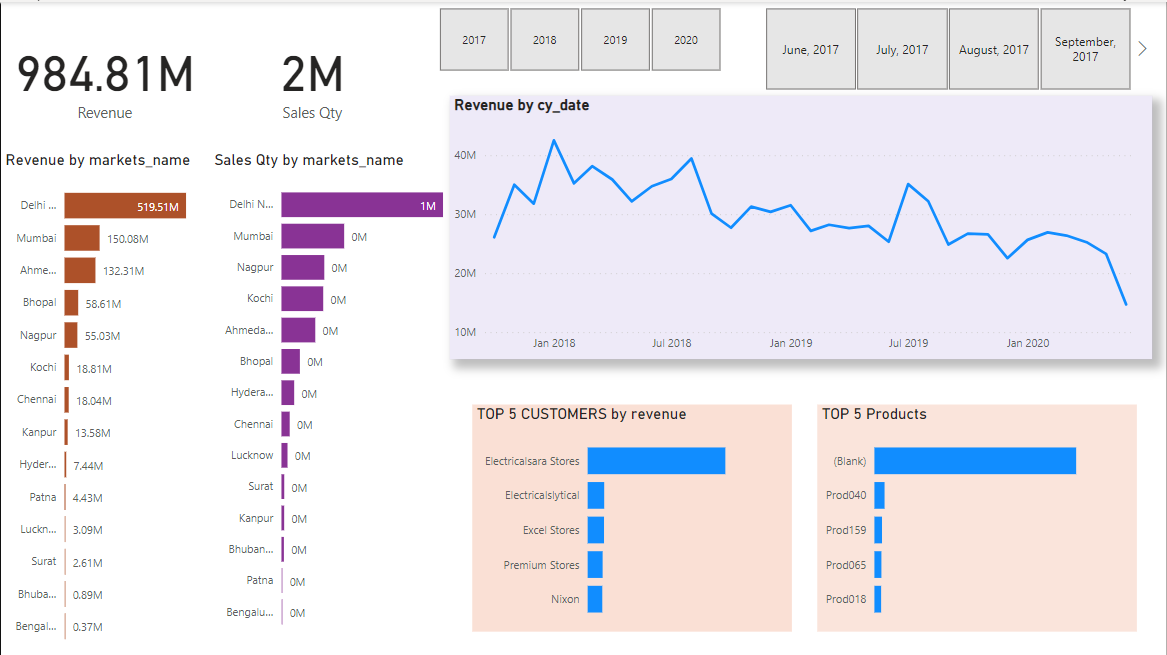

The dashboard page shown, as its layout file describes it:
{"tool":"powerbi","page":{"name":"Page 1","canvas":[1280,720],"ordinal":0},"visuals":[{"type":"card","fields":{"Values":["BaseMeasures.Revenue"]},"box":[0,0,228.6,163.8],"z":0},{"type":"card","fields":{"Values":["BaseMeasures.Sales Qty"]},"box":[228.6,0,228.6,163.8],"z":1000},{"type":"barChart","fields":{"Y":["BaseMeasures.Revenue"],"Category":["sales markets.markets_name"]},"box":[0,163.4,229.4,556.2],"z":2000},{"type":"slicer","fields":{"Values":["sales date.year"]},"box":[456,0,358.5,82.4],"z":3000},{"type":"slicer","fields":{"Values":["sales date.cy_date"]},"box":[814.4,0,450.5,103],"z":4000},{"type":"barChart","fields":{"Category":["sales markets.markets_name"],"Y":["BaseMeasures.Sales Qty"]},"box":[229.4,163.4,263.7,539.7],"z":5000},{"type":"barChart","title":"TOP 5 CUSTOMERS by revenue","fields":{"Category":["sales customers.custmer_name"],"Y":["BaseMeasures.Revenue"]},"box":[517.8,442.2,351.6,250],"z":6000},{"type":"lineChart","fields":{"Y":["BaseMeasures.Revenue"],"Category":["sales date.cy_date"]},"box":[493,103,771.8,289.8],"z":7000},{"type":"barChart","title":"TOP 5 Products","fields":{"Y":["BaseMeasures.Revenue"],"Category":["sales products.product_code"]},"box":[896.8,442.2,351.6,250],"z":7001}]}

Visuals, with their boxes in screenshot pixels (x1, y1, x2, y2), scaled from the page's 1280x720 canvas onto the 1167x655 screenshot:
card - BaseMeasures.Revenue: box(0, 0, 208, 149)
card - BaseMeasures.Sales Qty: box(208, 0, 417, 149)
barChart - BaseMeasures.Revenue x sales markets.markets_name: box(0, 149, 209, 654)
slicer - sales date.year: box(416, 0, 743, 75)
slicer - sales date.cy_date: box(743, 0, 1153, 94)
barChart - sales markets.markets_name x BaseMeasures.Sales Qty: box(209, 149, 450, 640)
"TOP 5 CUSTOMERS by revenue" barChart: box(472, 402, 793, 630)
lineChart - BaseMeasures.Revenue x sales date.cy_date: box(449, 94, 1153, 357)
"TOP 5 Products" barChart: box(818, 402, 1138, 630)
